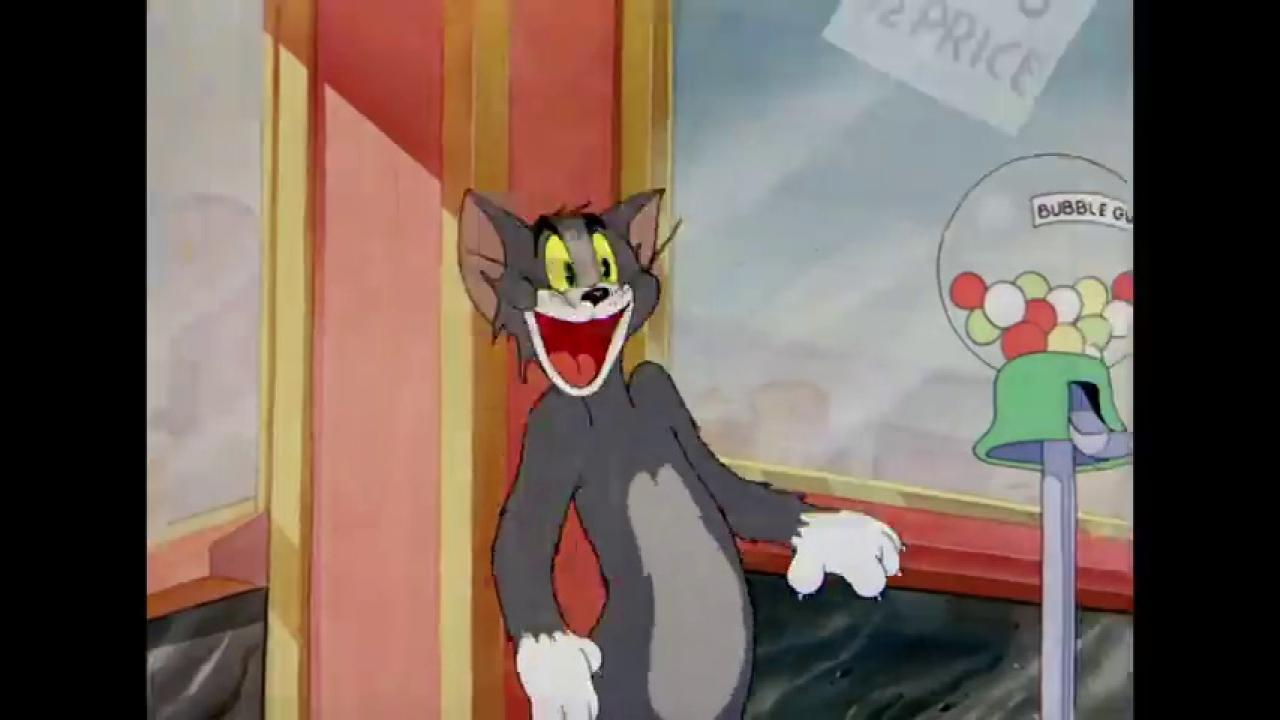Tom: (453, 186, 911, 720)
